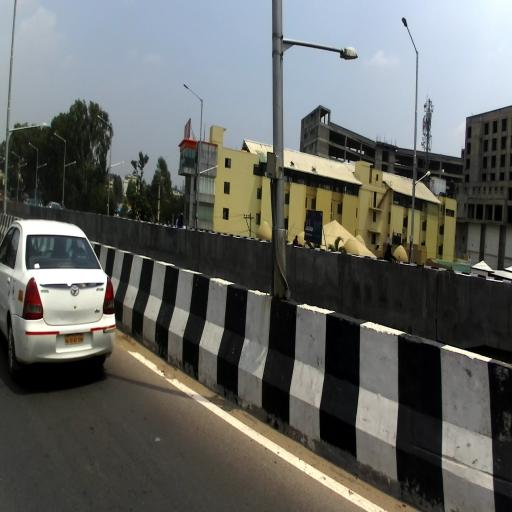street_light_0: (272, 33, 358, 62), (401, 16, 419, 56), (182, 82, 204, 105), (5, 122, 47, 134), (198, 162, 220, 178), (411, 169, 430, 181), (98, 115, 113, 130), (109, 161, 125, 170), (54, 132, 67, 143), (30, 142, 38, 152), (18, 162, 28, 169), (12, 151, 21, 158), (65, 161, 76, 166), (36, 164, 47, 168), (5, 166, 14, 170)
